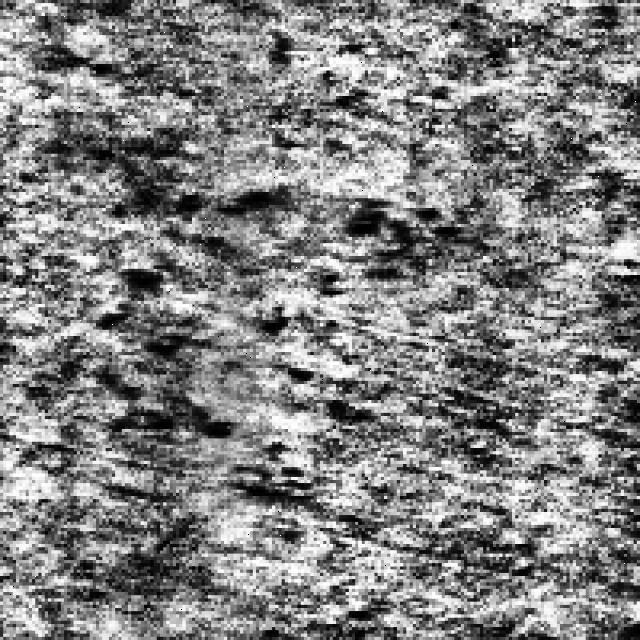Crazing: (83, 176, 400, 502)
